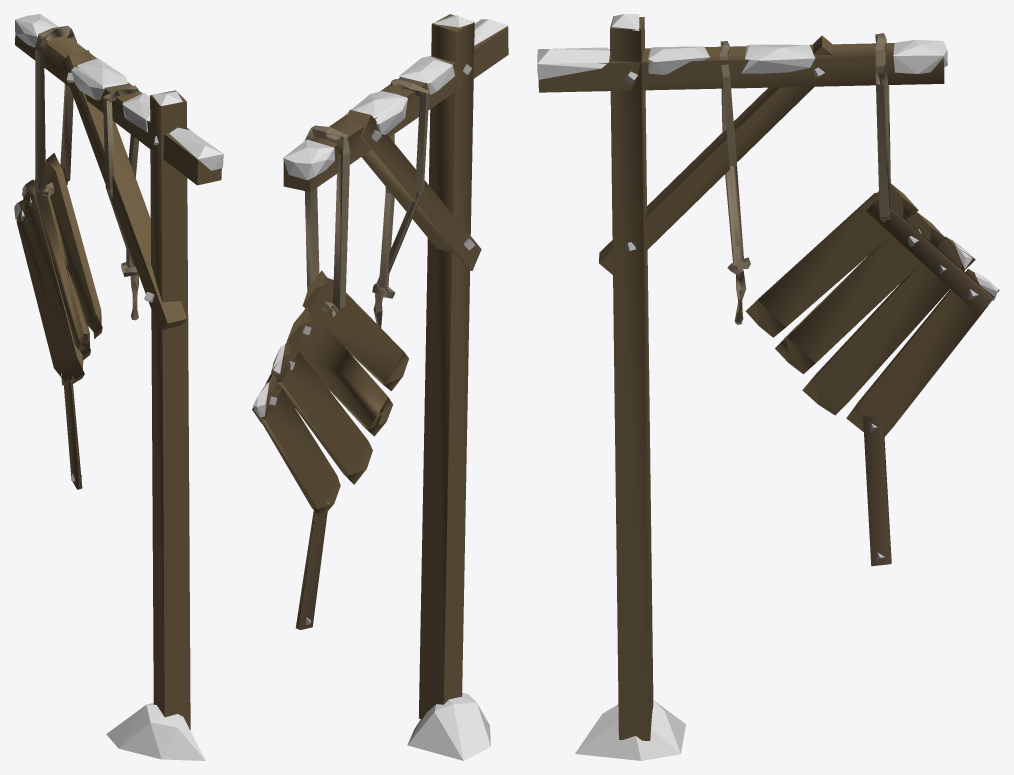
The model's file is brokenSign.fbx.
The picture shows the model from 3 angles, left to right: view 1: azimuth 30°, elevation 25°; view 2: azimuth 150°, elevation 25°; view 3: azimuth 270°, elevation 25°; orthographic projection. The views are drawn at different scales.
Visible parts, largest first — view 1: broken sign; view 2: broken sign; view 3: broken sign.
Part boxes in pixels (x1,y1,x2,y2): broken sign: (14,14,223,760); broken sign: (252,14,508,760); broken sign: (537,14,999,760).
Bounding box in the file's own units: 40.13 × 352 × 202.
